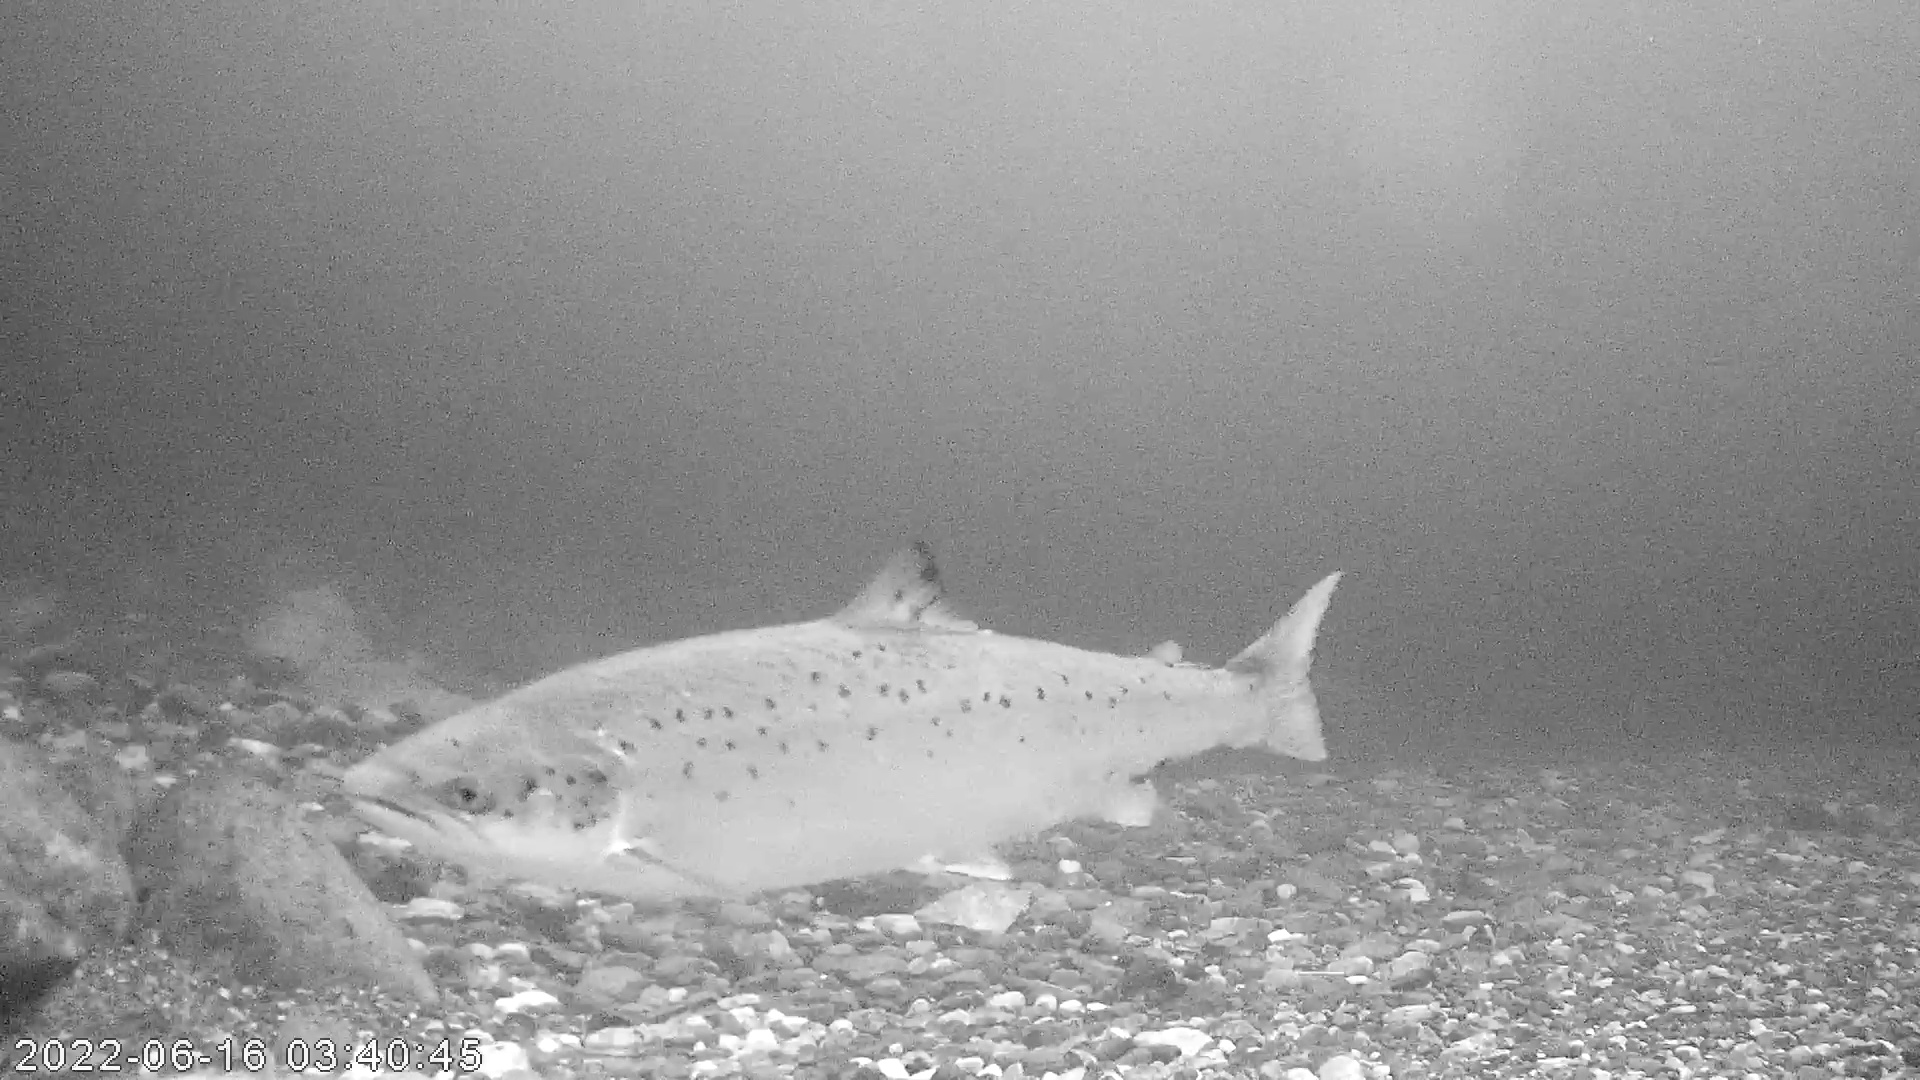salmon: (338, 534, 1348, 901)
